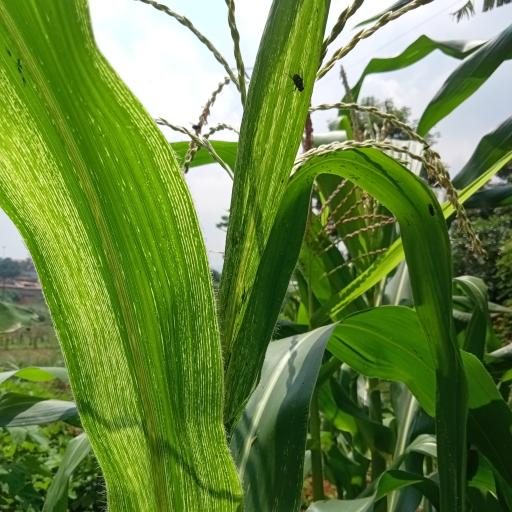Corn_Streak: (0, 8, 258, 509)
